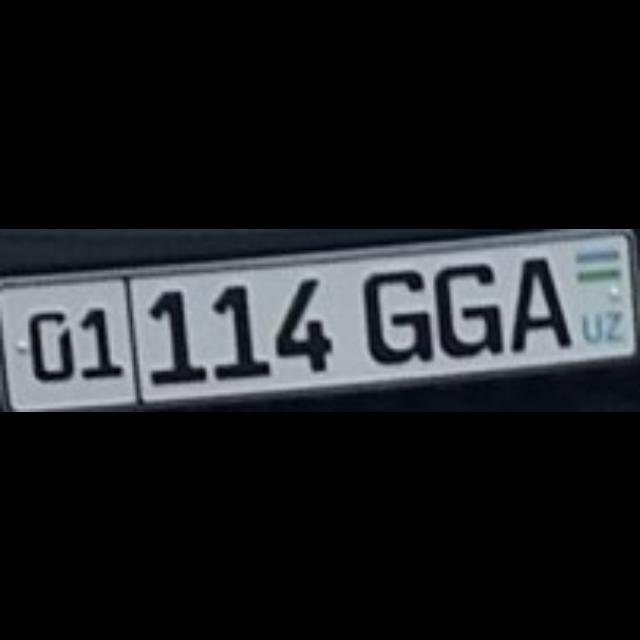0: (22, 308, 70, 380)
1: (143, 285, 203, 383), (210, 282, 266, 376), (76, 304, 120, 376)
4: (272, 275, 330, 367)
A: (507, 254, 567, 348)
G: (358, 266, 428, 362), (431, 260, 501, 354)
